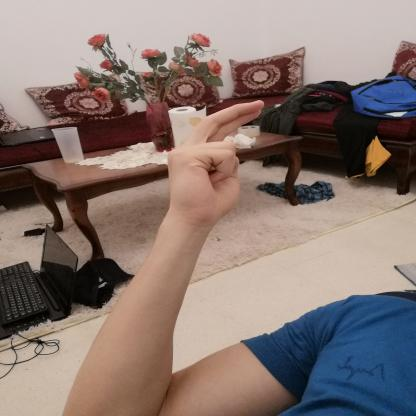ZAY: (160, 92, 272, 232)
